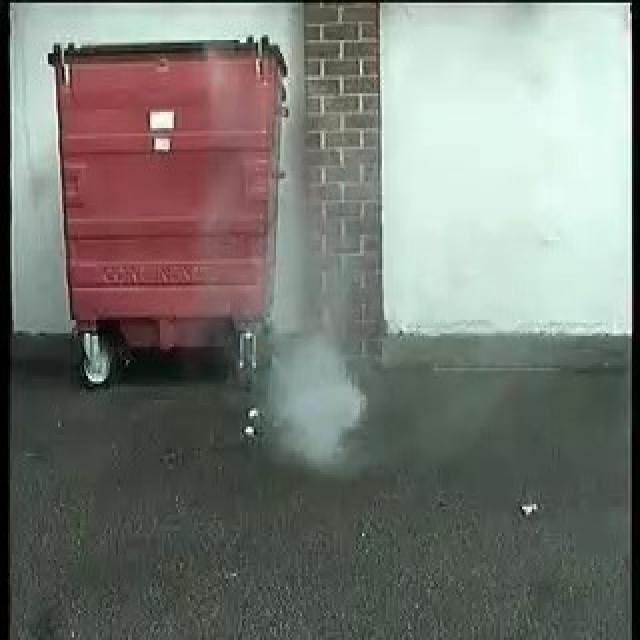smoke: (264, 300, 370, 462)
